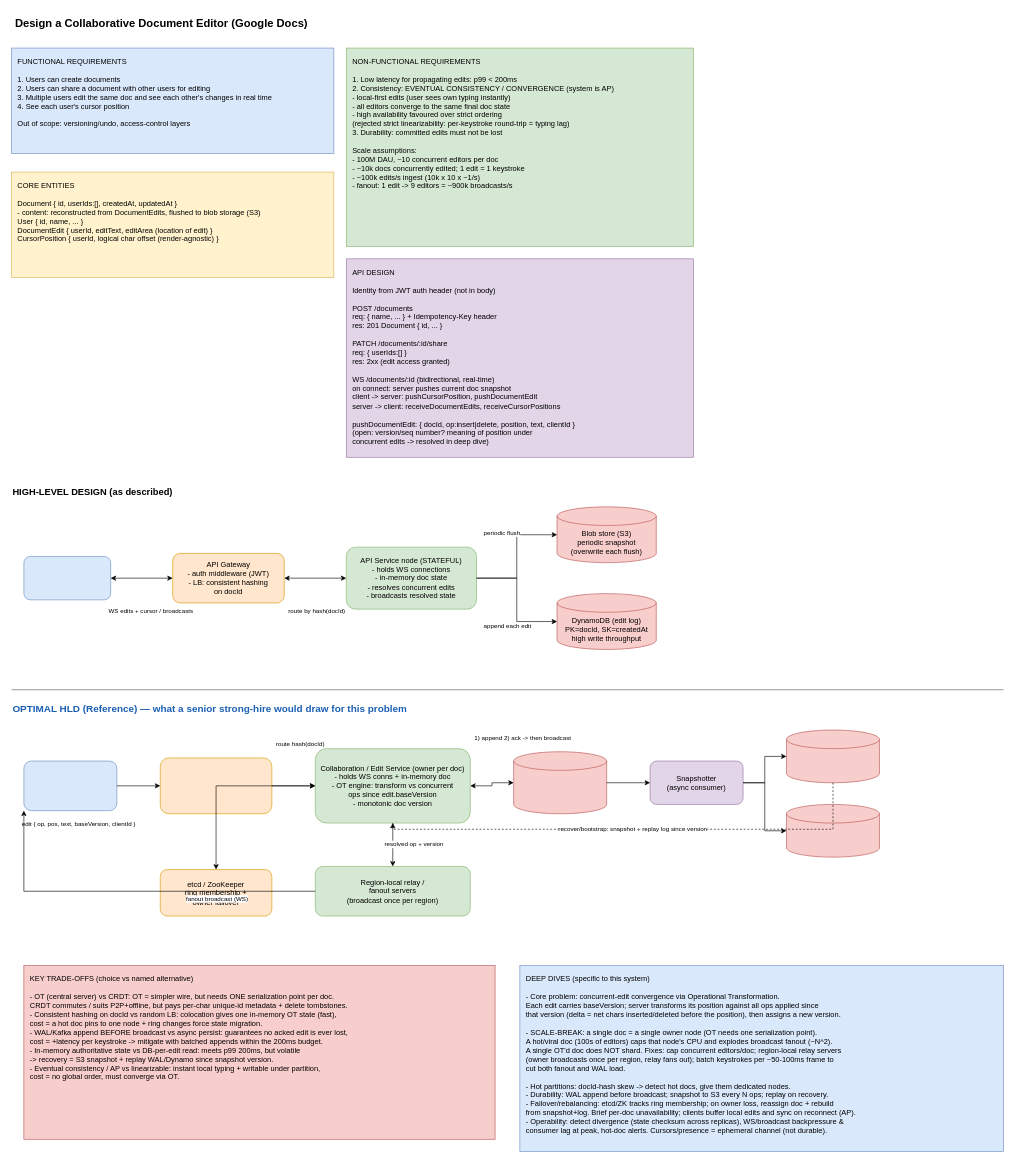
Image size: 1014x1163. Some labels were removed from this diagram. Each missing label, with the centre of its shape:
"API Gateway - JWT auth / WS terminate - consistent-hash route on docId" goes at (216,785).
"Clients (browser editors)" goes at (67,578).
"Clients (browser editors) local-first OT buffer" goes at (70,785).
"DynamoDB queryable edit log PK=docId, SK=version" goes at (832,830).
"S3 doc snapshots (every N ops)" goes at (832,756).
"WAL / Kafka (durable append BEFORE broadcast, batched)" goes at (560,782).
